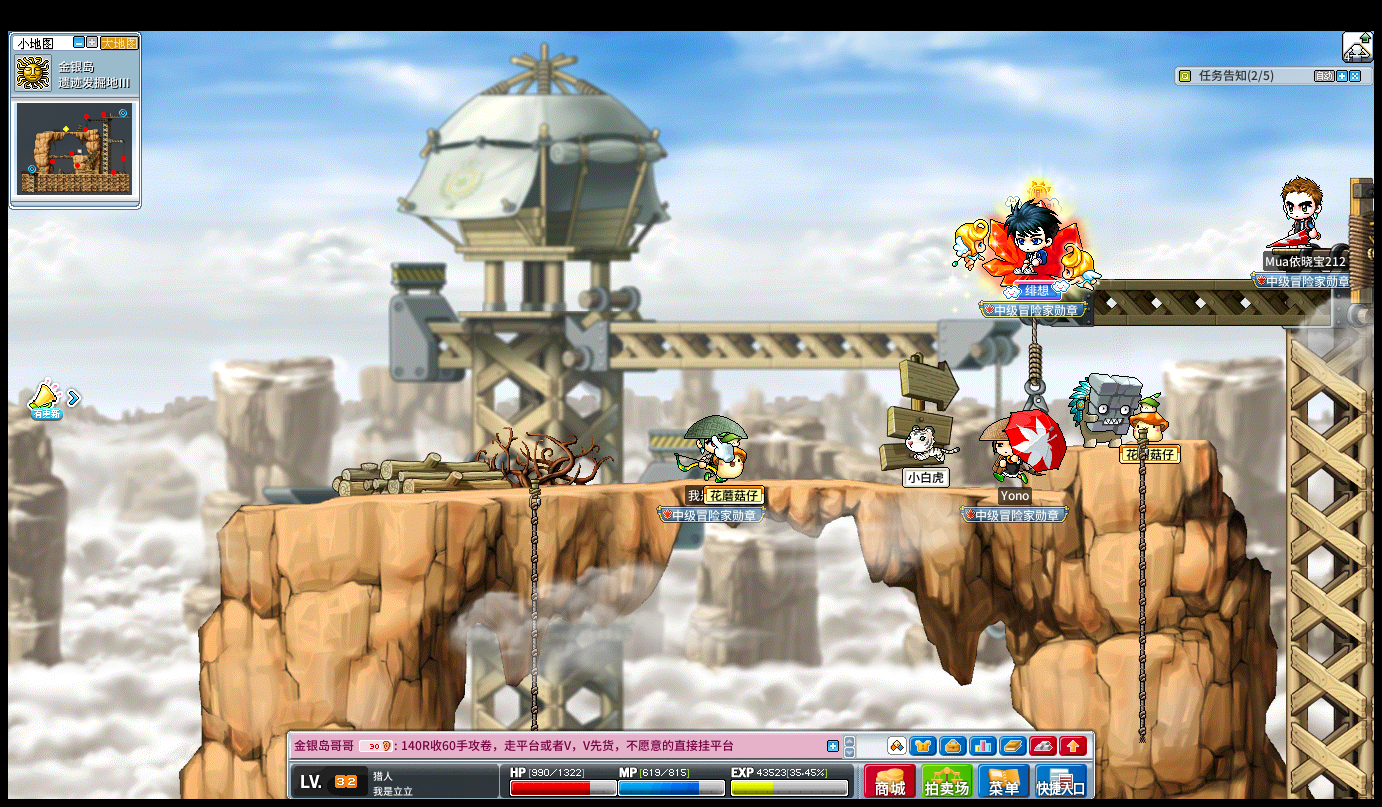floor: (220, 474, 1125, 501)
monster: (1068, 371, 1139, 447)
rope: (1134, 430, 1149, 752), (1135, 435, 1149, 652), (527, 479, 540, 680)
